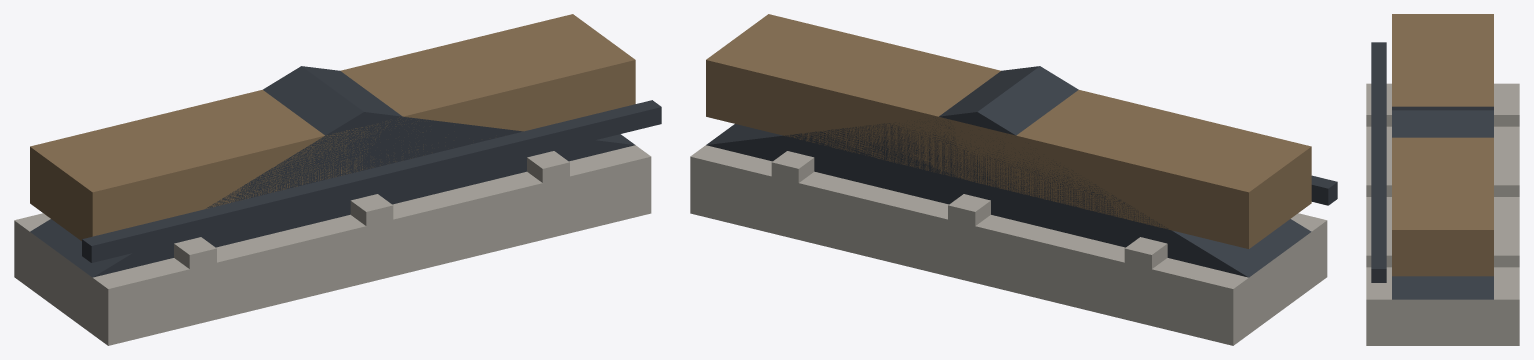
Rendered from d-ce-04-hydro-weir-house.glb.
3 views of the same model, side by side, from view 1: azimuth 30°, elevation 25°; view 2: azimuth 150°, elevation 25°; view 3: azimuth 270°, elevation 25° (orthographic). The views are drawn at different scales.
Parts seen in each view (by area): view 1: part4, part0, part5, part6, part3, part1, part2; view 2: part4, part0, part5, part3, part2, part1, part6; view 3: part4, part0, part5, part6, part1, part2, part3.
Part boxes in pixels (left/top/right/bottom): part4: left=30, top=14, right=635, bottom=240; part0: left=14, top=145, right=651, bottom=345; part5: left=30, top=66, right=635, bottom=277; part6: left=82, top=100, right=661, bottom=262; part3: left=527, top=151, right=569, bottom=237; part1: left=174, top=237, right=216, bottom=325; part2: left=350, top=194, right=393, bottom=282; part4: left=706, top=14, right=1311, bottom=248; part0: left=690, top=145, right=1327, bottom=345; part5: left=706, top=66, right=1311, bottom=277; part3: left=771, top=151, right=814, bottom=238; part2: left=948, top=194, right=990, bottom=281; part1: left=1124, top=237, right=1167, bottom=324; part6: left=1311, top=175, right=1337, bottom=205; part4: left=1392, top=14, right=1493, bottom=276; part0: left=1366, top=83, right=1519, bottom=345; part5: left=1392, top=106, right=1493, bottom=299; part6: left=1371, top=42, right=1386, bottom=282; part1: left=1366, top=104, right=1519, bottom=126; part2: left=1366, top=174, right=1519, bottom=196; part3: left=1366, top=245, right=1519, bottom=267.
Bounding box in the file's own units: 42000 × 11000 × 12000.
